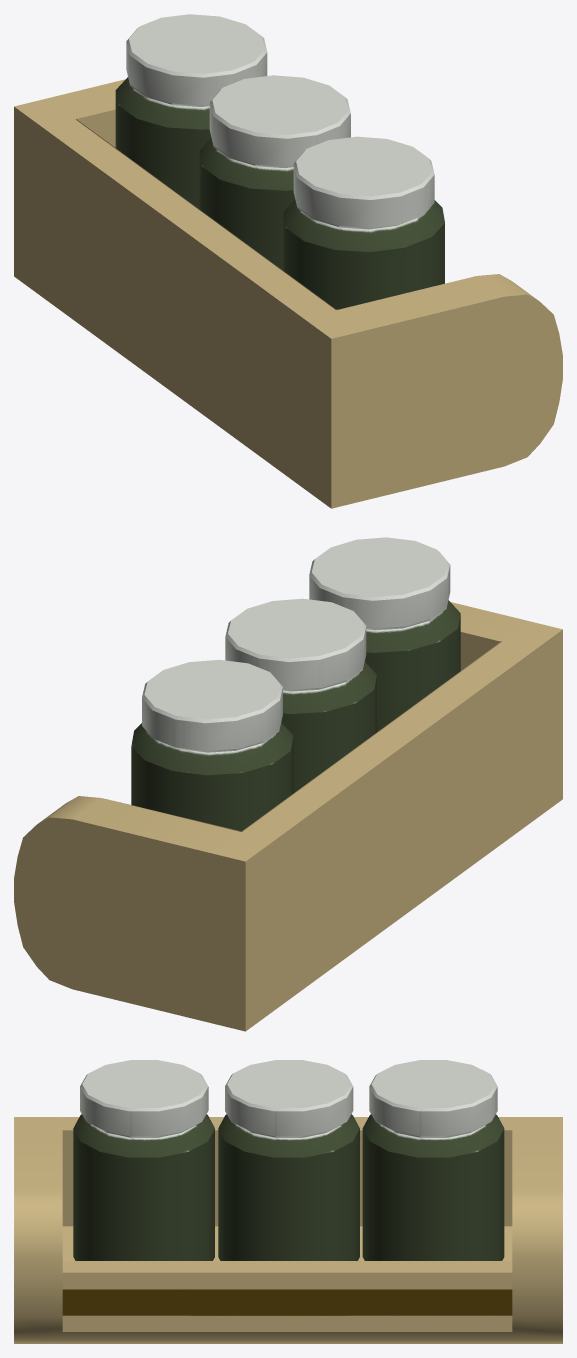
File: Spicerack.fbx
3 views of the same model, one above another, from view 1: azimuth 30°, elevation 25°; view 2: azimuth 150°, elevation 25°; view 3: azimuth 270°, elevation 25° (orthographic). The views are drawn at different scales.
Parts seen in each view (by area): view 1: Cylinder; view 2: Cylinder; view 3: Cylinder.
Boxes of the visible parts, bbox=[...] form: Cylinder: bbox=[14, 14, 562, 508]; Cylinder: bbox=[14, 537, 562, 1031]; Cylinder: bbox=[14, 1060, 562, 1343].
Size of the model in its own units: 70.8 by 76.19 by 168.
